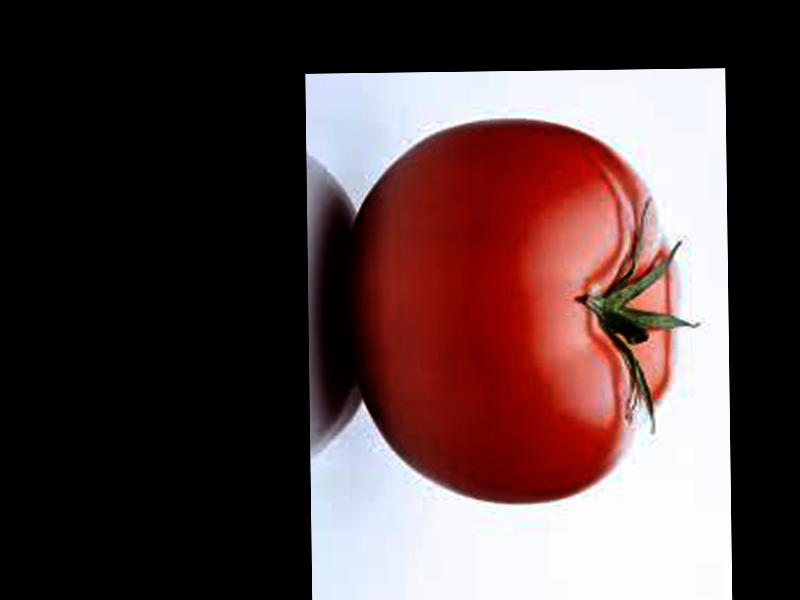Tomato: (348, 116, 678, 503)
